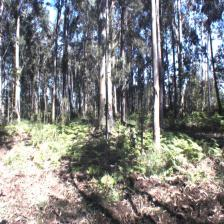trunktrack_idkeyframe: (97, 60, 113, 128), (150, 53, 160, 140)
